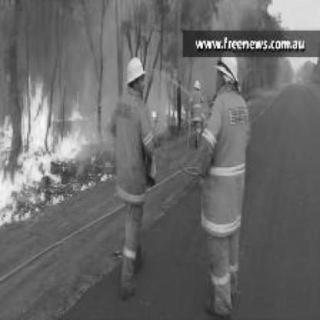Fire: (1, 73, 87, 217), (162, 97, 190, 125)
